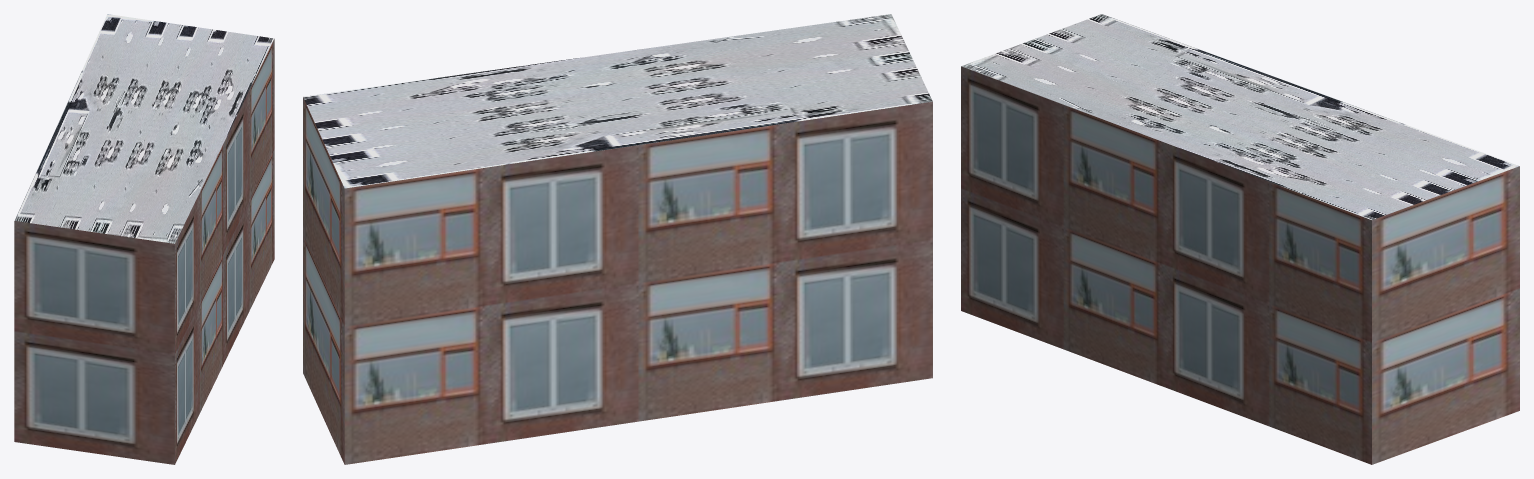
Rendered from ResTex__1726.fbx.
3 views of the same model, side by side, from view 1: azimuth 30°, elevation 25°; view 2: azimuth 150°, elevation 25°; view 3: azimuth 270°, elevation 25° (orthographic). The views are drawn at different scales.
Parts seen in each view (by area): view 1: CityEngineMaterial_19_m, CityEngineMaterial_15_m; view 2: CityEngineMaterial_19_m, CityEngineMaterial_15_m; view 3: CityEngineMaterial_19_m, CityEngineMaterial_15_m.
Part boxes in pixels (x1,y1,x2,y2): CityEngineMaterial_19_m: (14, 39, 274, 464); CityEngineMaterial_15_m: (14, 14, 274, 243); CityEngineMaterial_19_m: (303, 97, 932, 464); CityEngineMaterial_15_m: (303, 14, 932, 188); CityEngineMaterial_19_m: (961, 66, 1519, 464); CityEngineMaterial_15_m: (961, 14, 1519, 219).
Size of the model in its own units: 10.85 by 6 by 12.42.
Materials: 2 (2 with a texture image).
